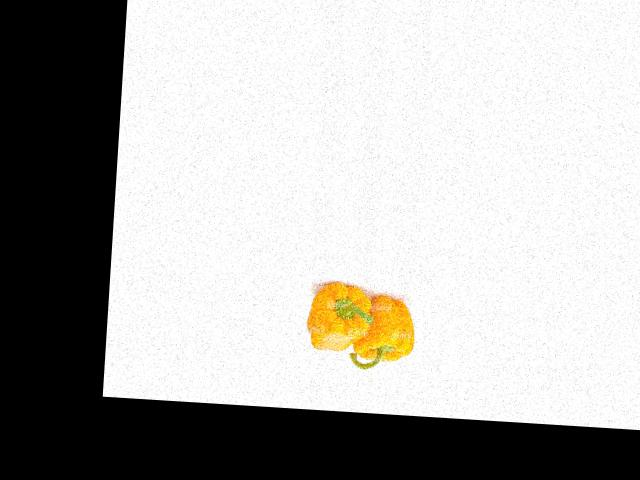bell_pepper: (345, 293, 418, 369)
